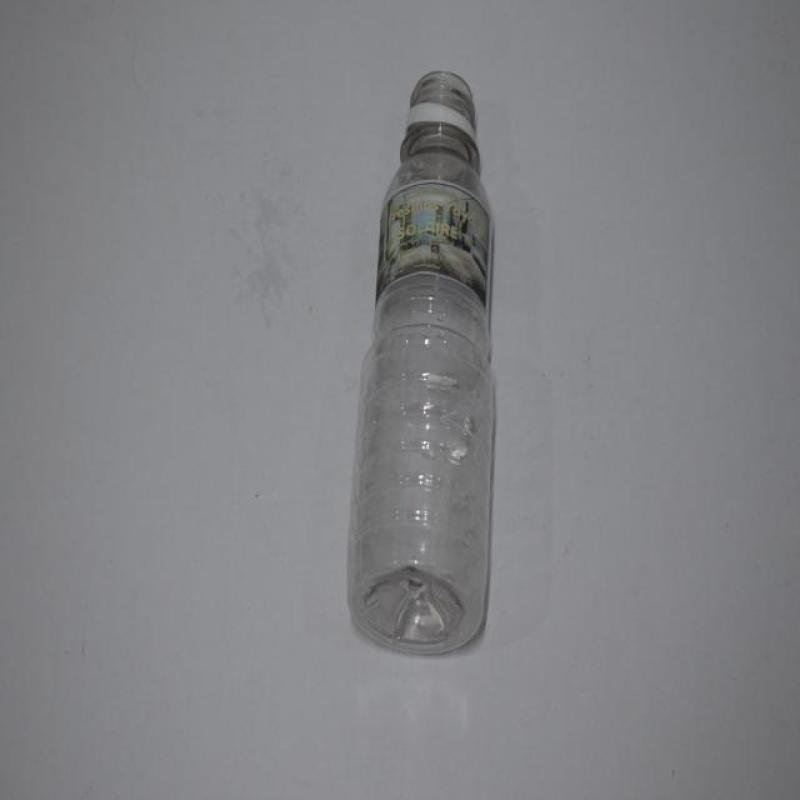botella: (342, 69, 494, 656)
